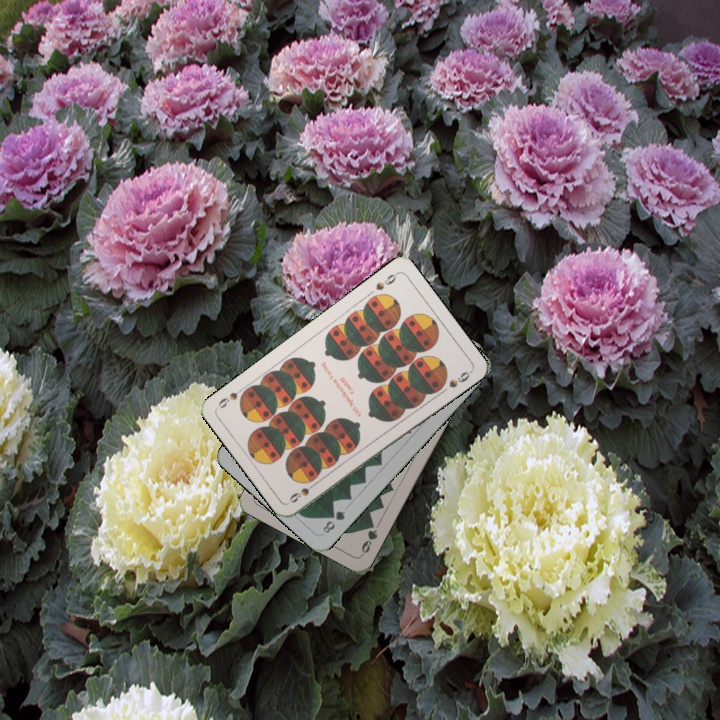G8: (319, 506, 348, 536)
G9: (357, 517, 380, 558)
S9: (285, 477, 321, 505), (371, 268, 401, 293)
